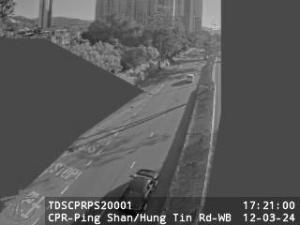vehicle: (119, 169, 157, 211), (187, 73, 193, 83)
